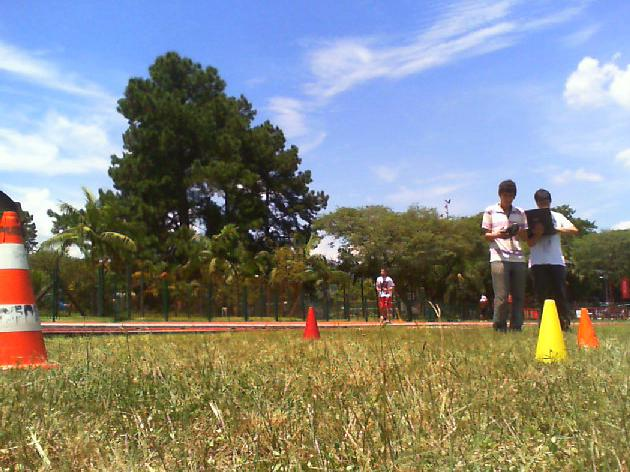0 cone: (0, 210, 56, 372), (534, 298, 570, 364), (578, 308, 600, 350), (302, 307, 321, 341)
